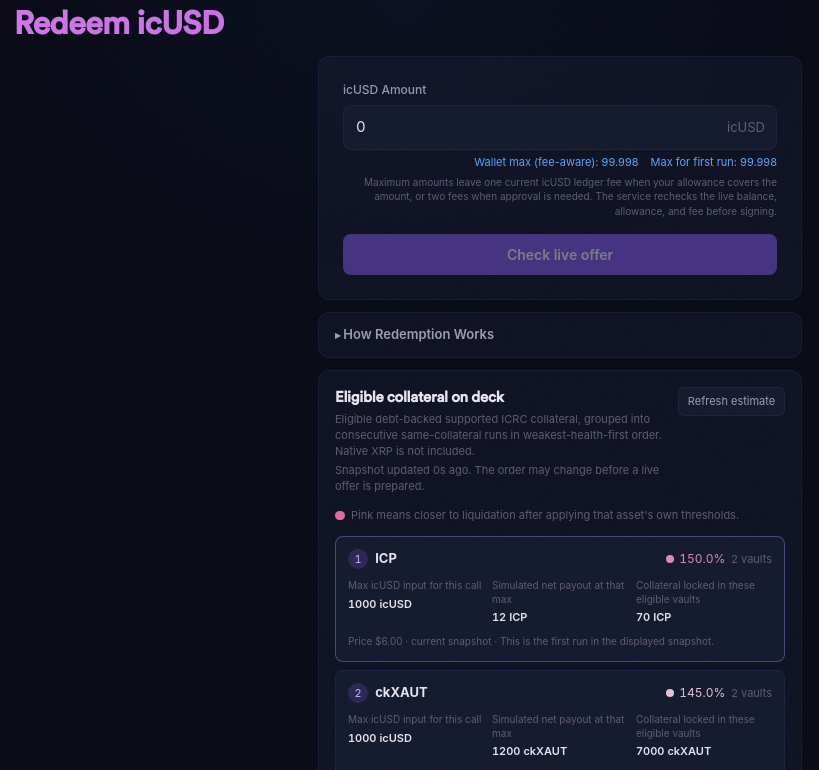
Test: redemption route quote and queue safety › keeps the fresh queue and capacity error when the prepared inner quote is an error
Step 1. Replace the text in the number field with id "icusd-amount" with "0.01" → (560, 127), box x1=343 y1=105 x2=777 y2=150
Wait 350 ms
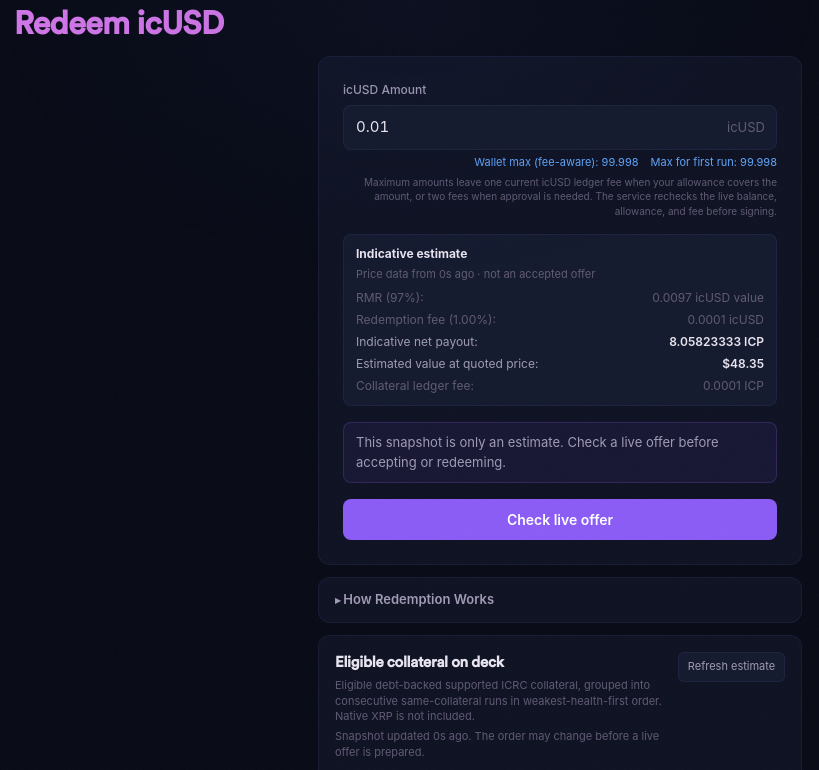
Step 2. Click the button with id "check-live-offer" → (560, 520), box x1=343 y1=499 x2=777 y2=540
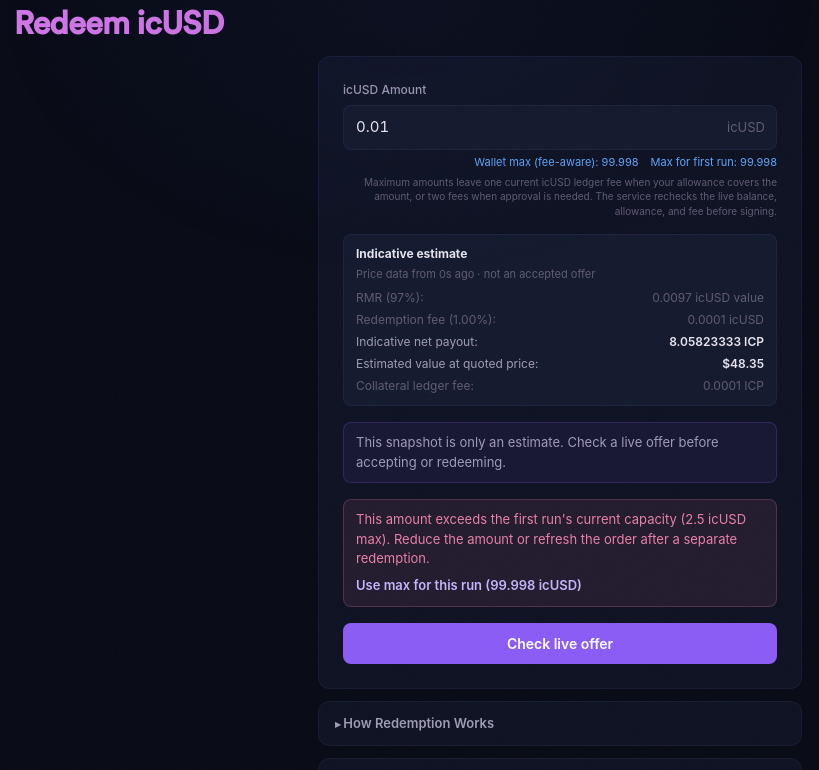
Result: the text "2.5 icUSD max" is shown at x1=356 y1=511 x2=746 y2=566
